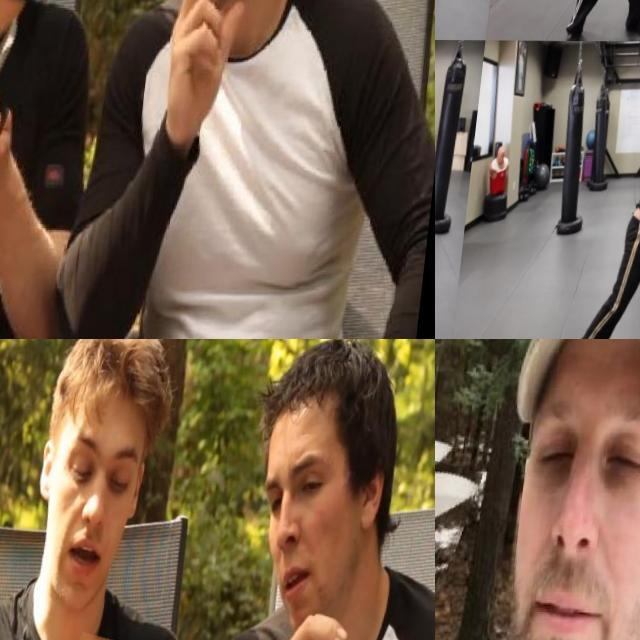-: (435, 413, 585, 640), (0, 0, 49, 163), (435, 169, 446, 214), (435, 0, 457, 19)
